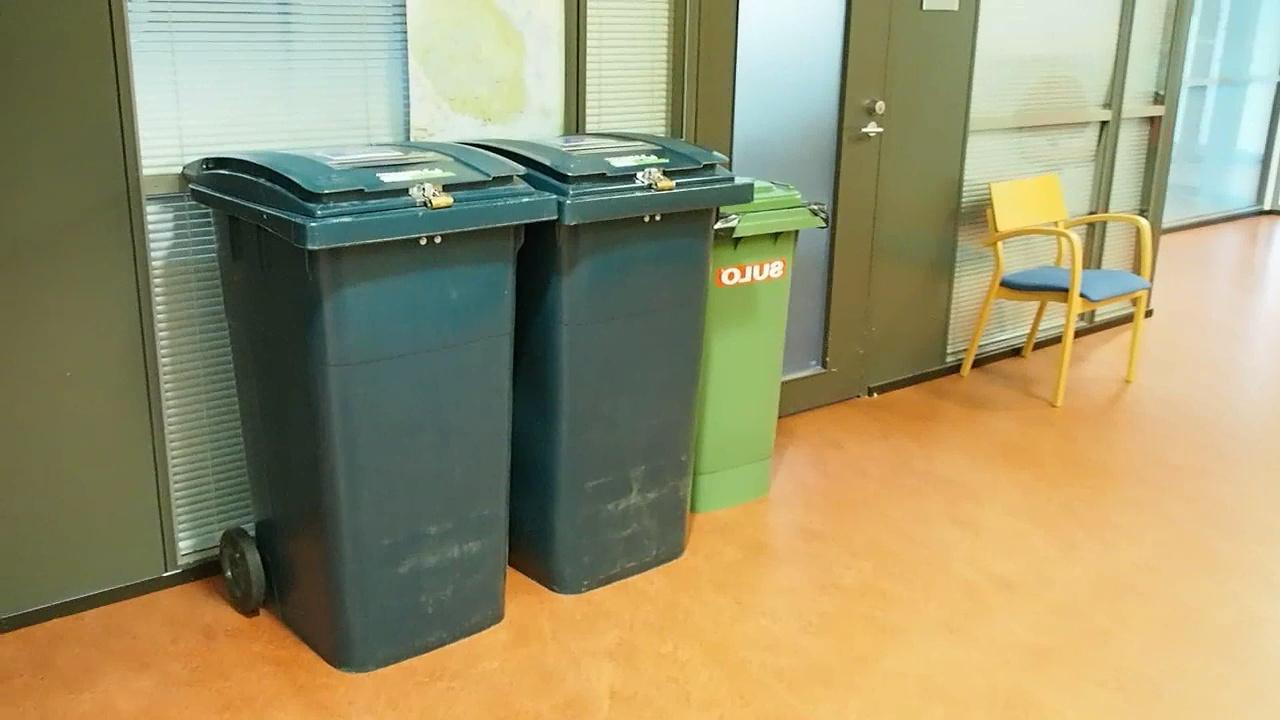chair: (966, 164, 1169, 397)
trashbin: (186, 149, 548, 674), (508, 136, 754, 591)
